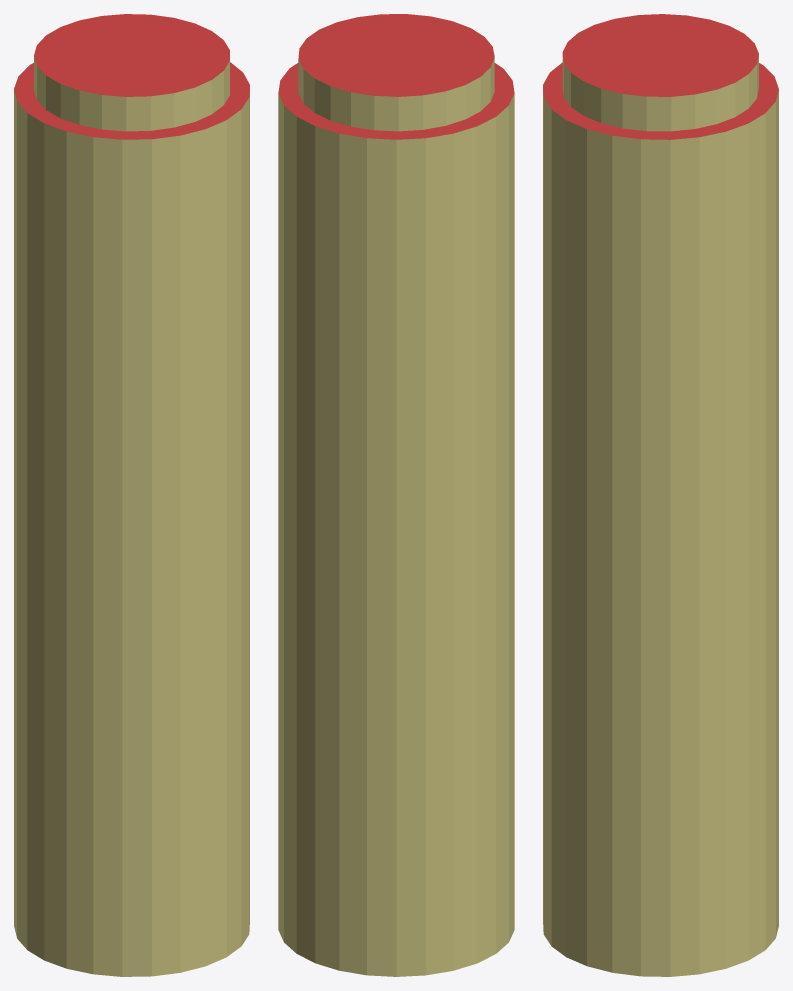
The picture shows the model from 3 angles, left to right: view 1: azimuth 30°, elevation 25°; view 2: azimuth 150°, elevation 25°; view 3: azimuth 270°, elevation 25°; orthographic projection.
Size of the model in its own units: 5.96 by 5.96 by 24.28.
